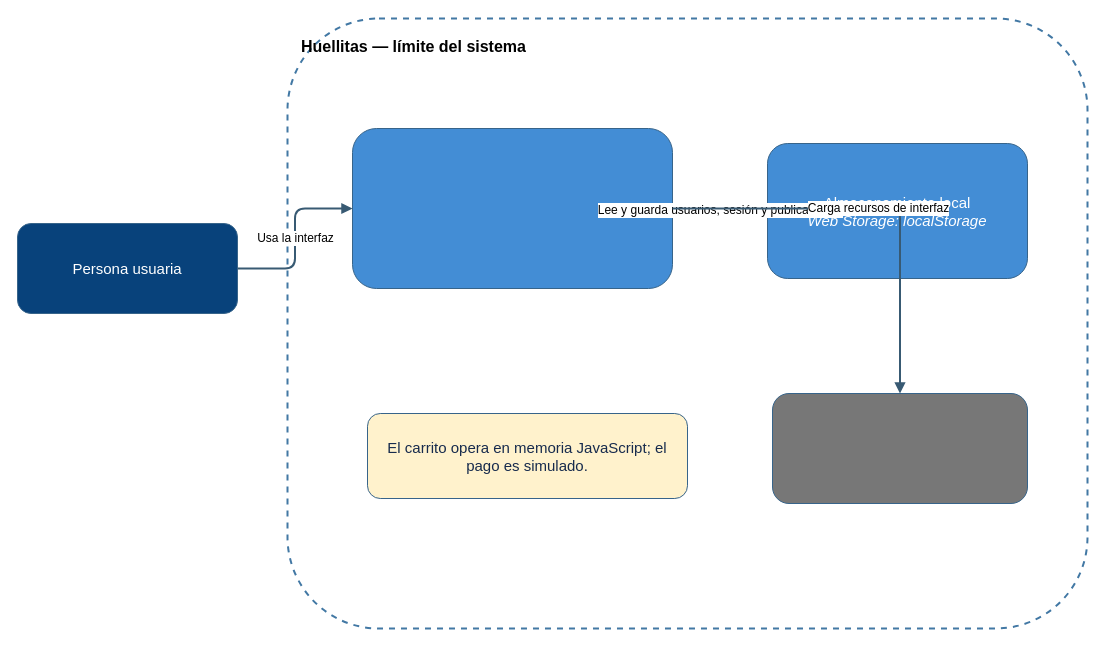
Image size: 1106x646. Some labels were removed from this diagram. Here are the shapes that lost their labels. From the top down, the box of each, then its label:
(352, 128, 672, 288): Aplicación web HTML, CSS y JavaScript index/login/registro/perfil
(772, 392, 1028, 504): Bootstrap (CDN) Biblioteca externa de interfaz
